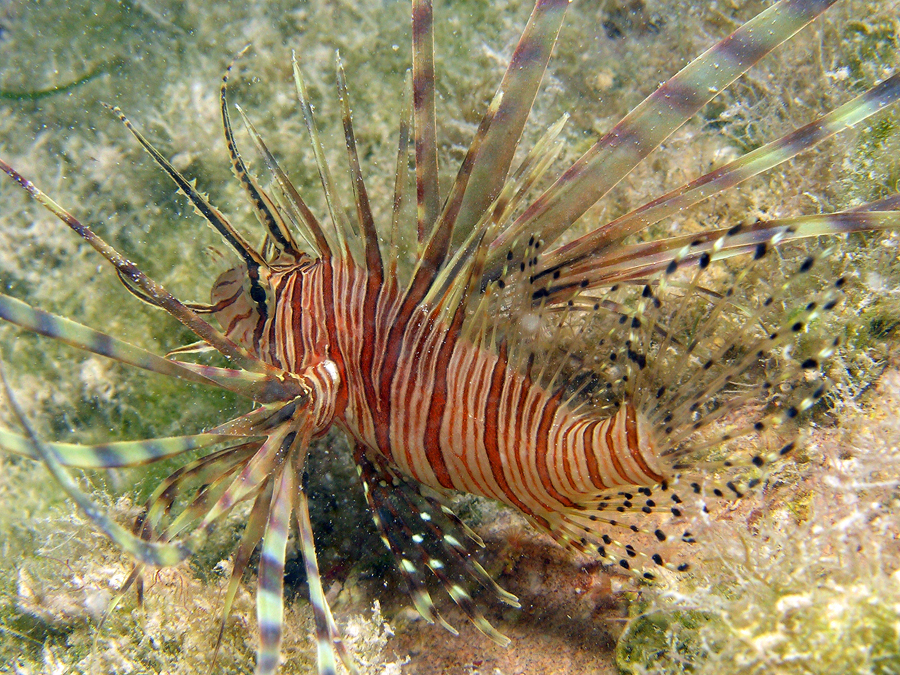Pterois_volitans: (35, 1, 810, 634)
